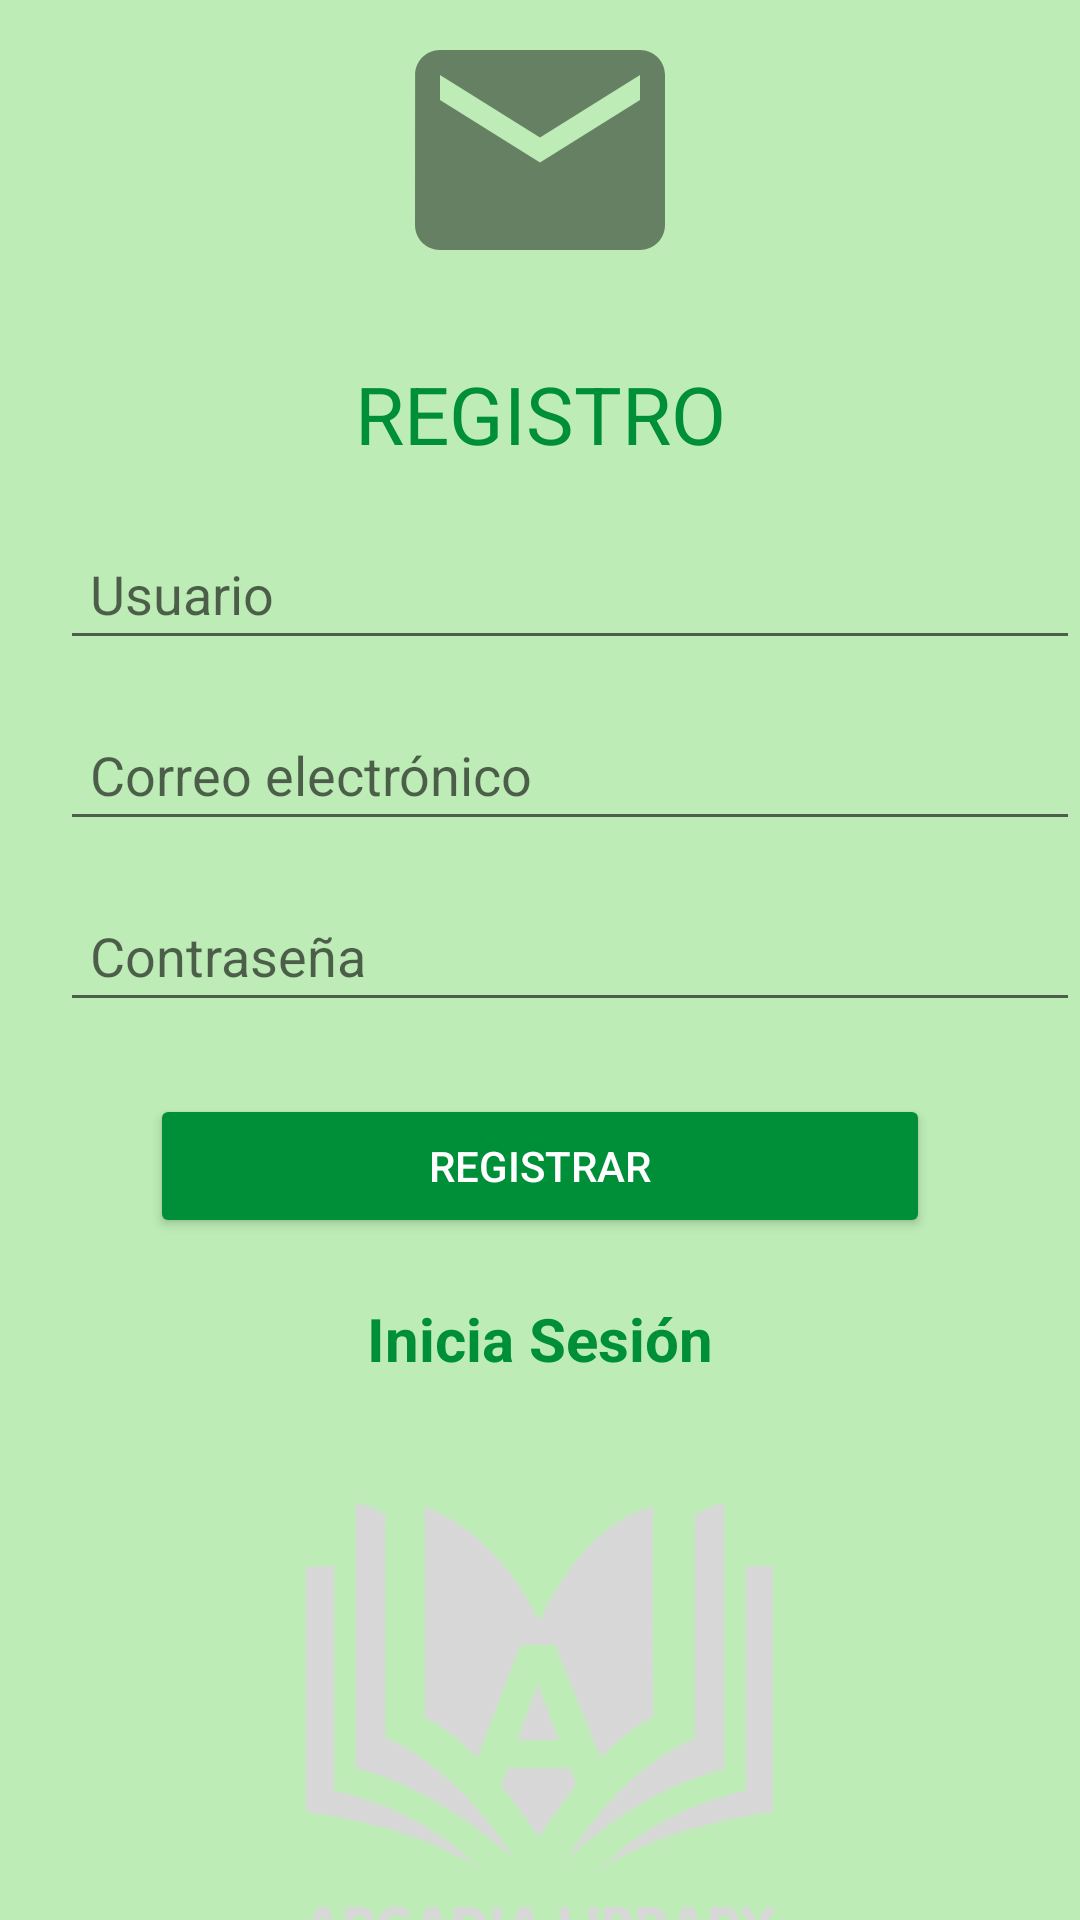

Named icons in this screenshot (1080 x 1920) and their centers, point (x, y):
email: point (540, 150)
